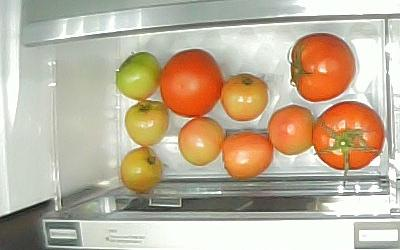tomato: (312, 102, 384, 172), (288, 34, 356, 102), (161, 49, 222, 117), (223, 128, 274, 178), (178, 117, 224, 166), (222, 73, 268, 122), (267, 106, 313, 155), (117, 50, 160, 100), (125, 98, 168, 146), (119, 146, 162, 192)
